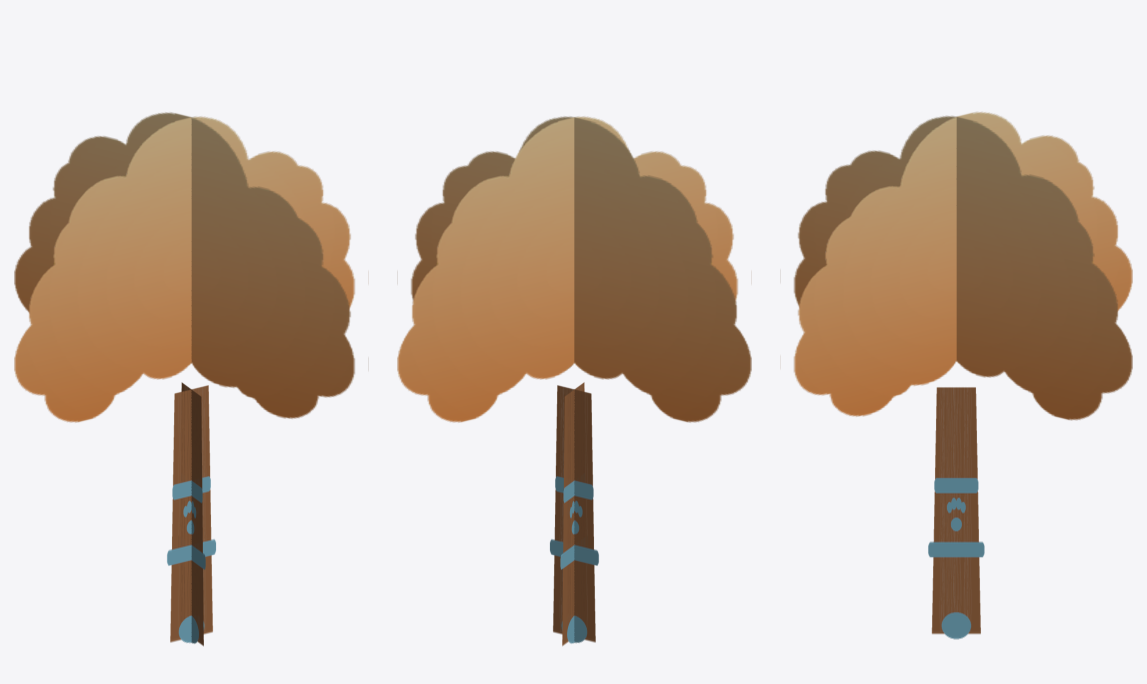
The model's file is nyanisyarud-tree-orange.glb.
The picture shows the model from 3 angles, left to right: view 1: azimuth 30°, elevation 25°; view 2: azimuth 150°, elevation 25°; view 3: azimuth 270°, elevation 25°; orthographic projection.
Bounding box in the file's own units: 1.8 × 2.65 × 1.56.
Materials: 2 (2 with a texture image).
